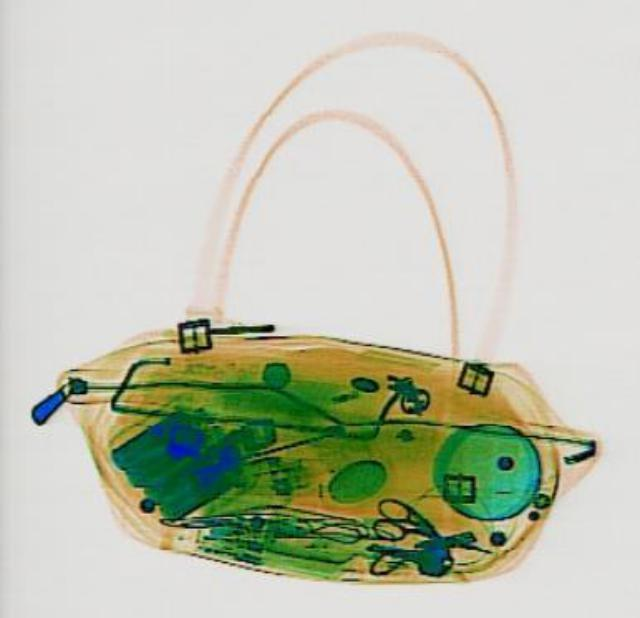Scissors: (362, 490, 496, 568)
